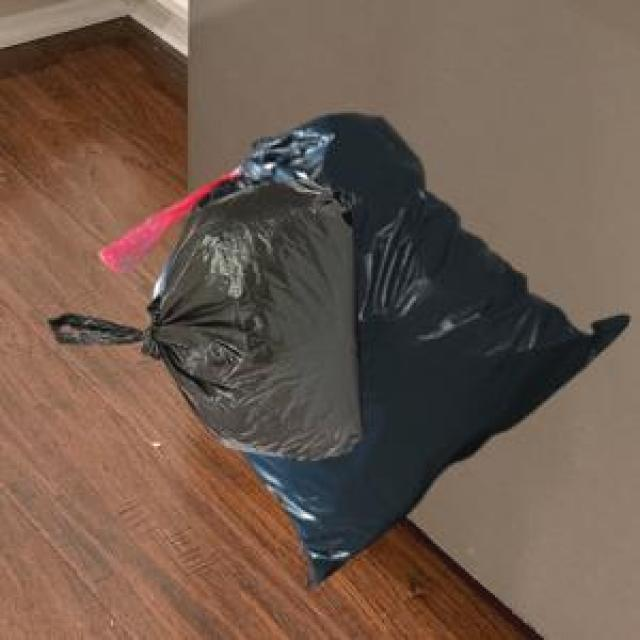Trashbag: (43, 180, 367, 460)
